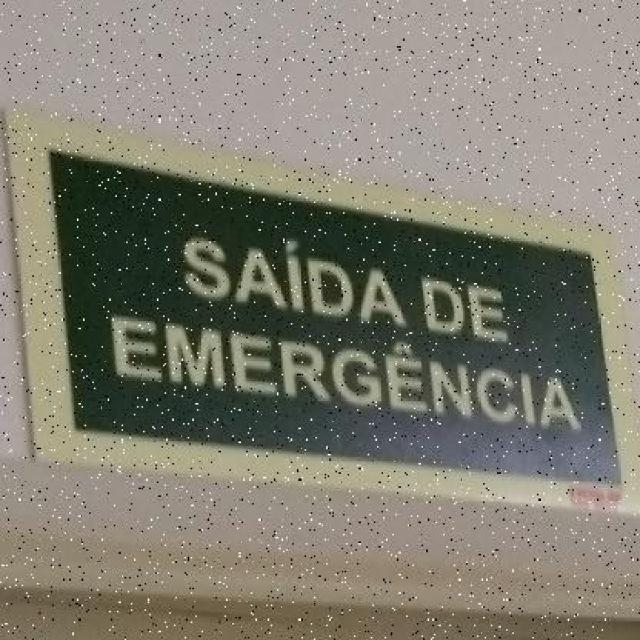emergency_exit: (10, 111, 625, 504), (42, 143, 623, 498)
